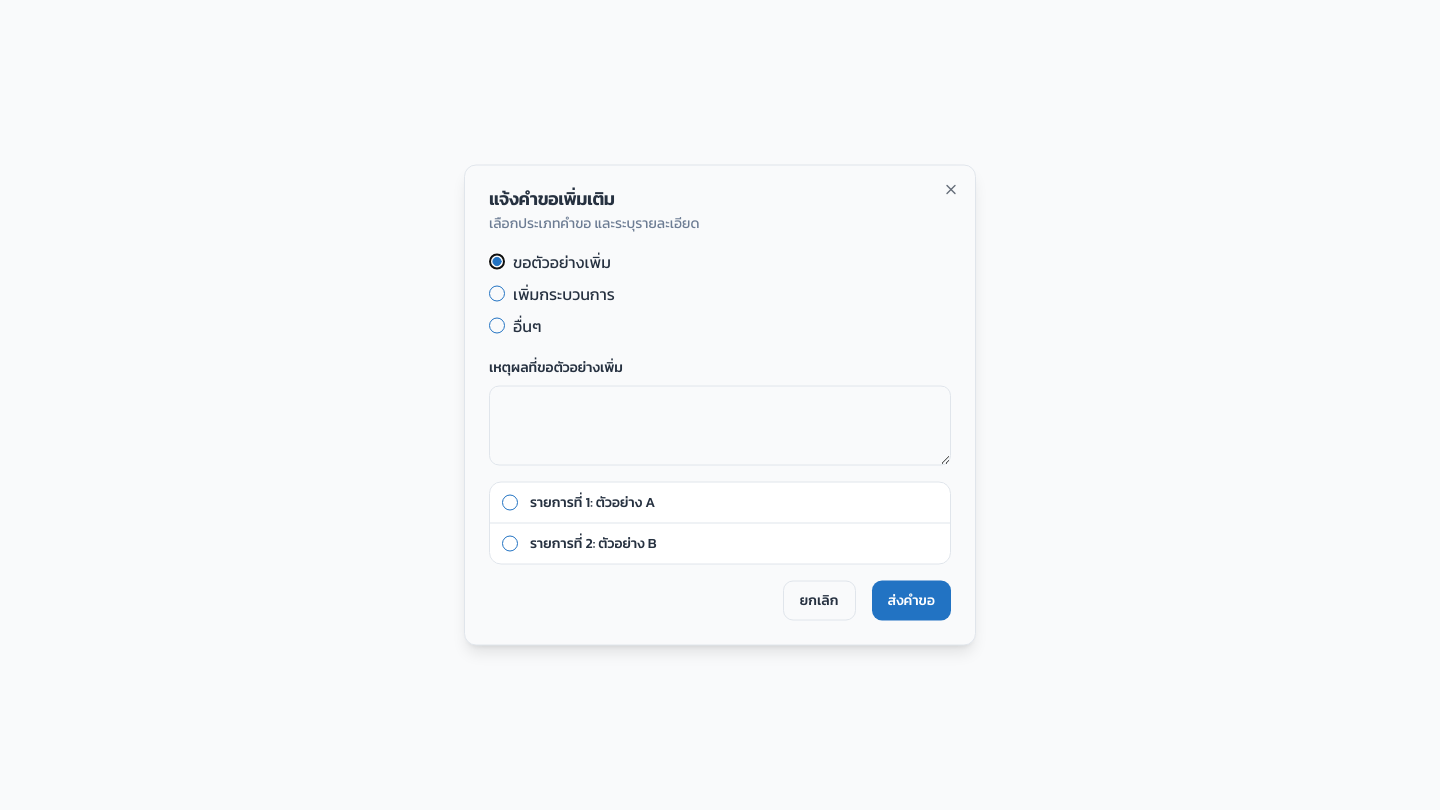
AdditionalSampleRequestDialog › retains reason and selection with an API error so the user can retry
Type " ค่าสูงกว่าเกณฑ์ " into the text box labelled "เหตุผลที่ขอตัวอย่างเพิ่ม" at {"x": 720, "y": 426}, box [489, 386, 951, 466]
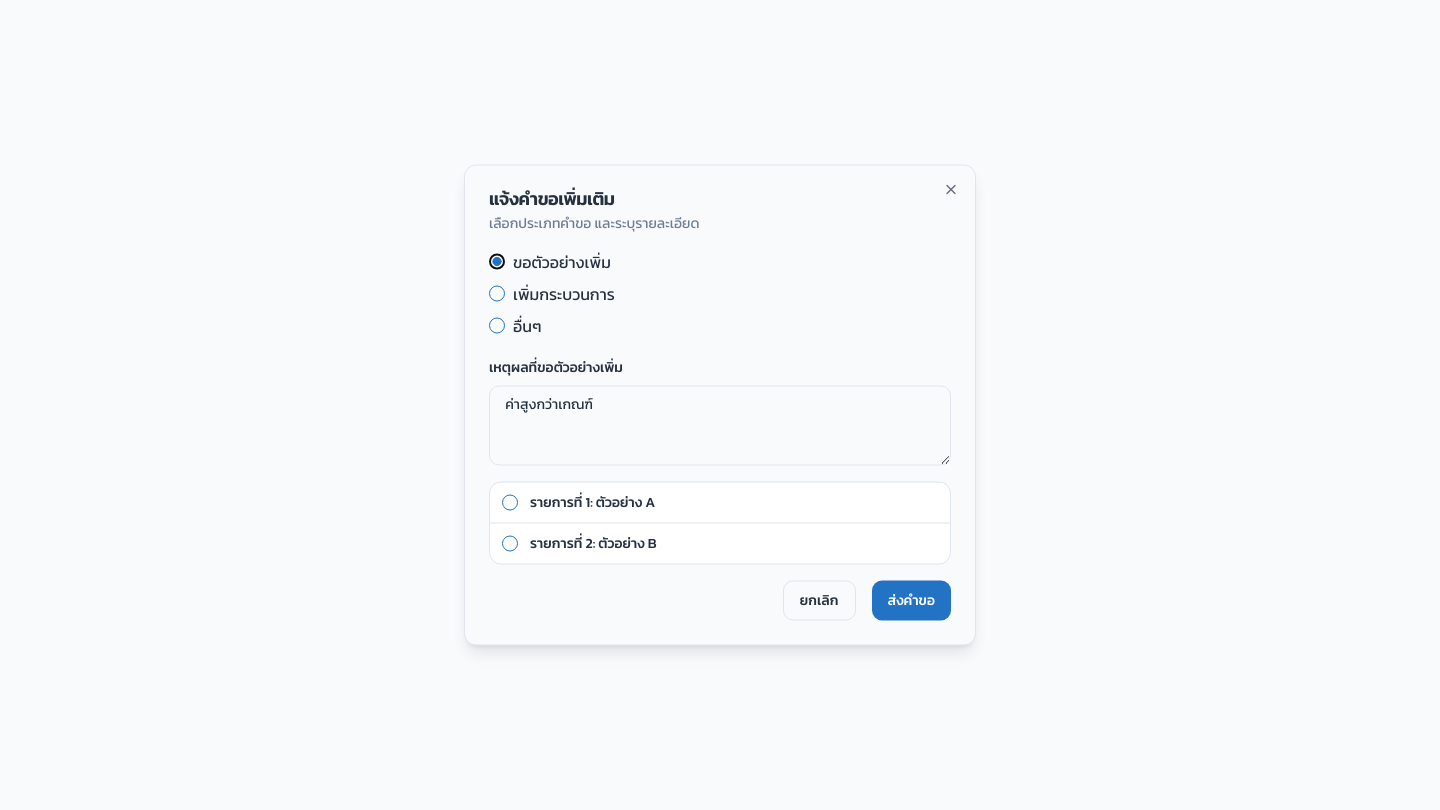
Click the checkbox named "ตัวอย่าง A" in the row of "ตัวอย่าง A" at {"x": 510, "y": 502}, box [502, 494, 518, 510]
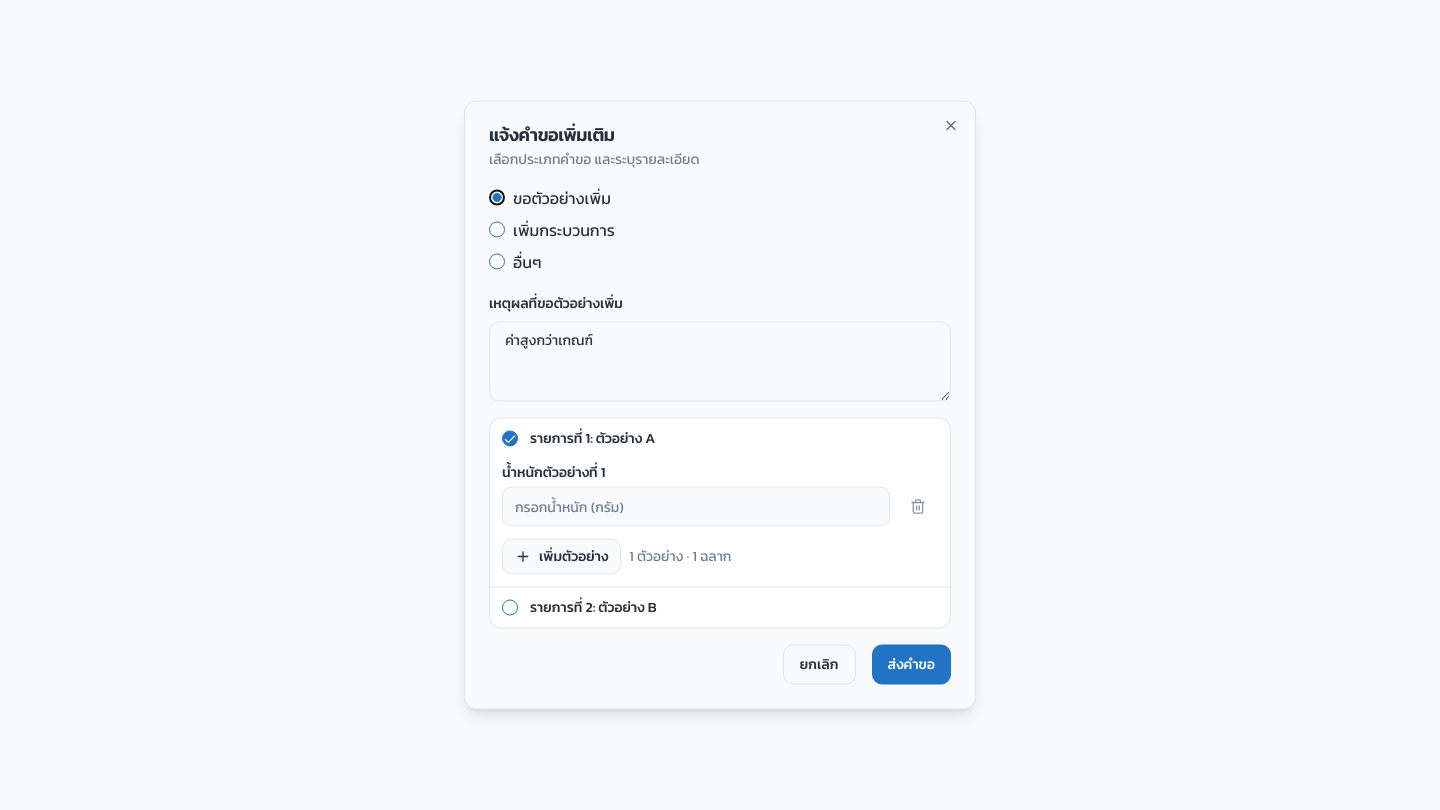
Type "100" into the number field named "น้ำหนักตัวอย่างที่ 1 รายการที่ 1" at {"x": 696, "y": 506}, box [502, 486, 890, 526]
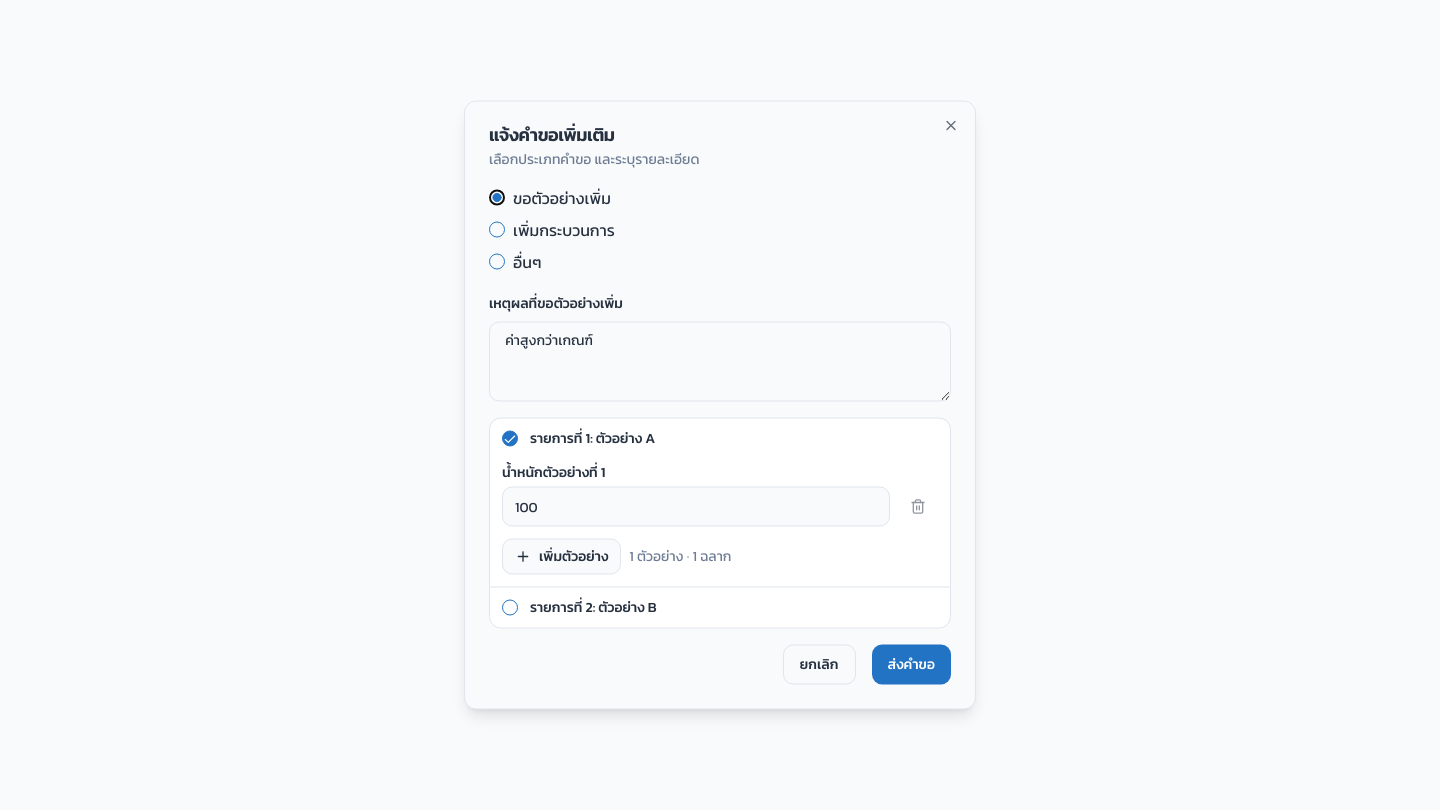
Replace the text in the number field named "น้ำหนักตัวอย่างที่ 1 รายการที่ 1" with "500" at {"x": 696, "y": 506}, box [502, 486, 890, 526]
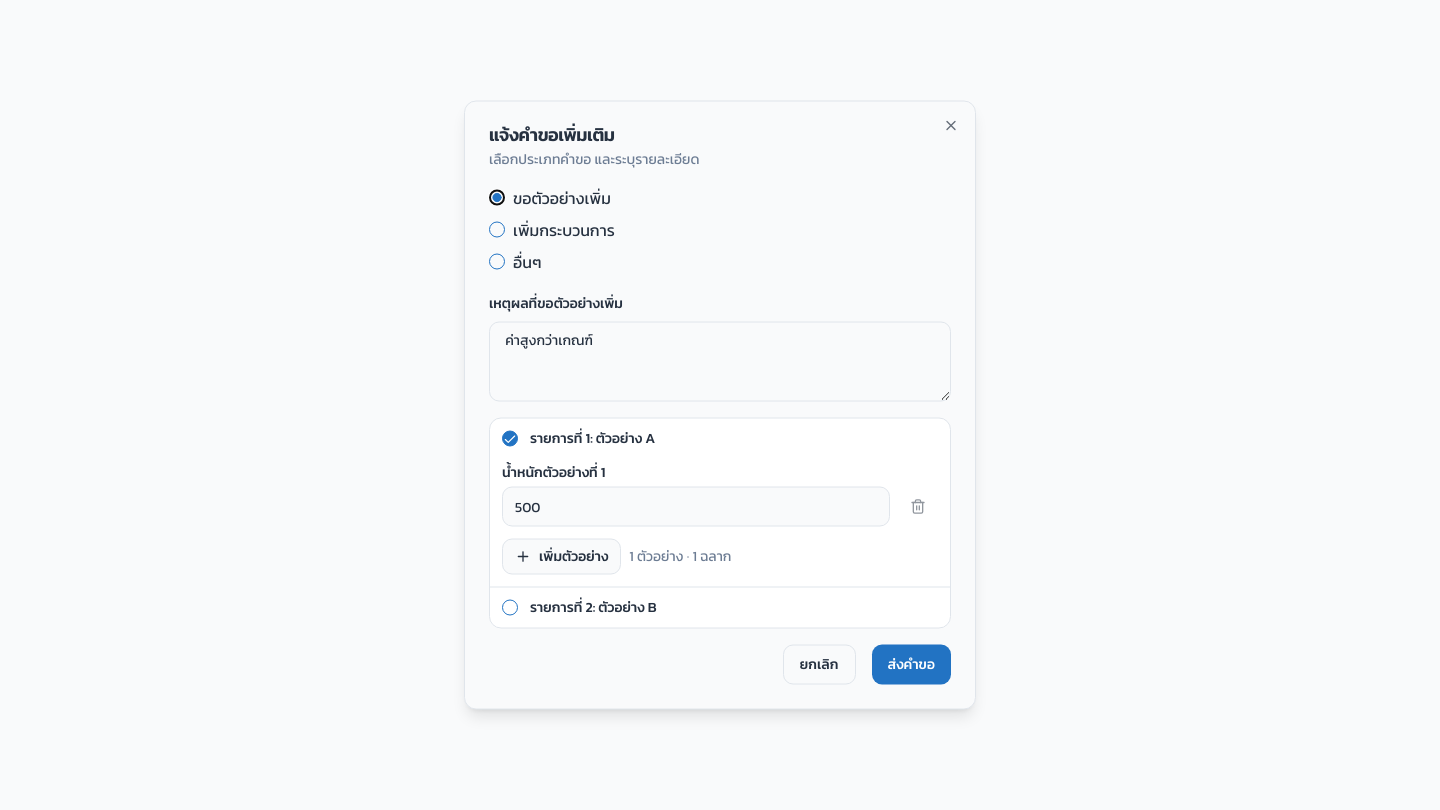
Click the button "ส่งคำขอ" at {"x": 911, "y": 664}, box [872, 644, 951, 684]
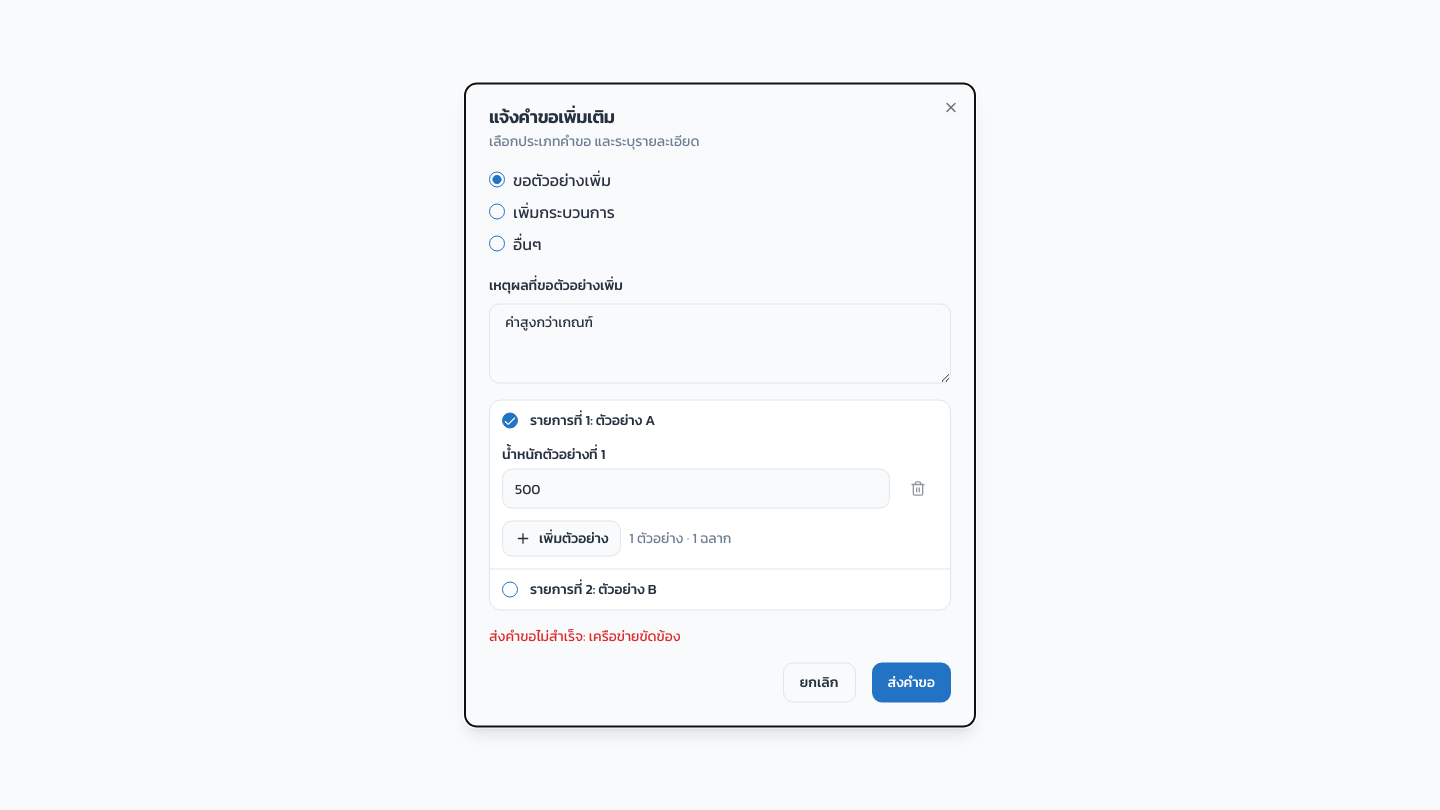
Expected: the button "ส่งคำขอ" is enabled, [872, 662, 951, 702]
Now the checkbox named "ตัวอย่าง A" in the row of "ตัวอย่าง A" is checked, box [502, 412, 518, 428]
Now the message shows "เครือข่ายขัดข้อง", box [489, 626, 681, 646]
